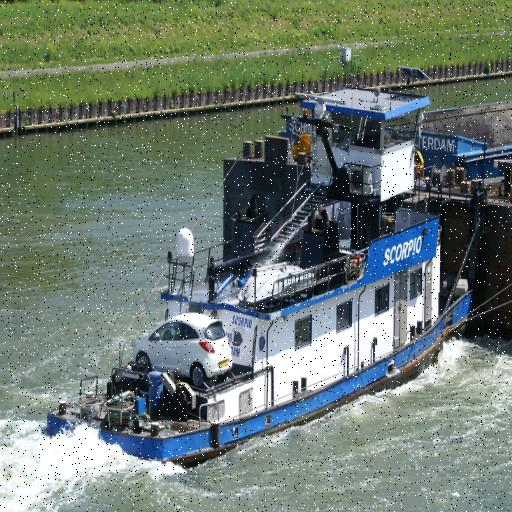tugboat: (42, 77, 475, 477)
